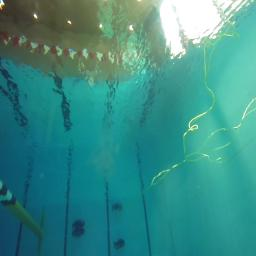Full: (112, 239, 126, 249), (72, 228, 86, 237)
